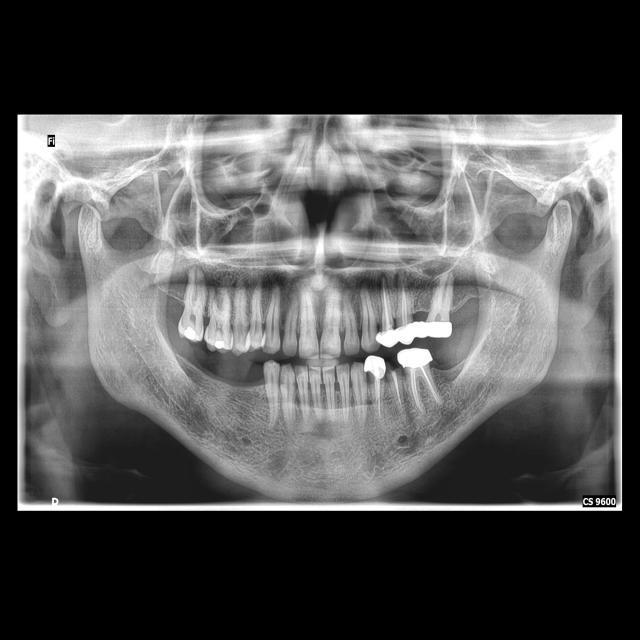dolgu: (206, 332, 234, 355), (178, 325, 204, 343)
kanal-tedavisi: (410, 372, 444, 415), (395, 278, 413, 326), (378, 278, 393, 329), (373, 376, 386, 426), (390, 377, 406, 412)
kaplama: (397, 345, 434, 367), (363, 355, 388, 379), (427, 319, 454, 340), (374, 329, 398, 350), (397, 322, 415, 346)
kopru: (404, 310, 438, 340)
